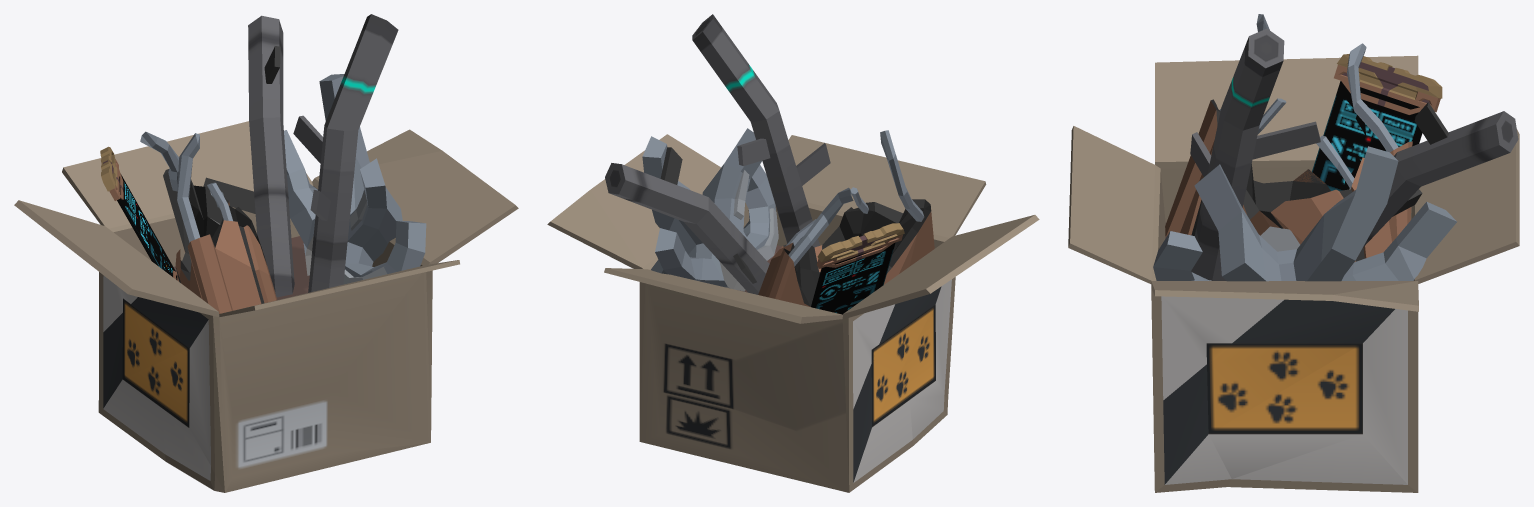
Rendered from SM_Prop_Cardboard_Box_04.fbx.
3 views of the same model, side by side, from view 1: azimuth 30°, elevation 25°; view 2: azimuth 150°, elevation 25°; view 3: azimuth 270°, elevation 25° (orthographic). The views are drawn at different scales.
Parts seen in each view (by area): view 1: SM_Prop_Cardboard_Box_04; view 2: SM_Prop_Cardboard_Box_04; view 3: SM_Prop_Cardboard_Box_04.
Part boxes in pixels (bbox=[...]): SM_Prop_Cardboard_Box_04: bbox=[14, 14, 518, 492]; SM_Prop_Cardboard_Box_04: bbox=[547, 14, 1039, 492]; SM_Prop_Cardboard_Box_04: bbox=[1068, 14, 1519, 492].
Bounding box in the file's own units: 112 × 107 × 95.16.
